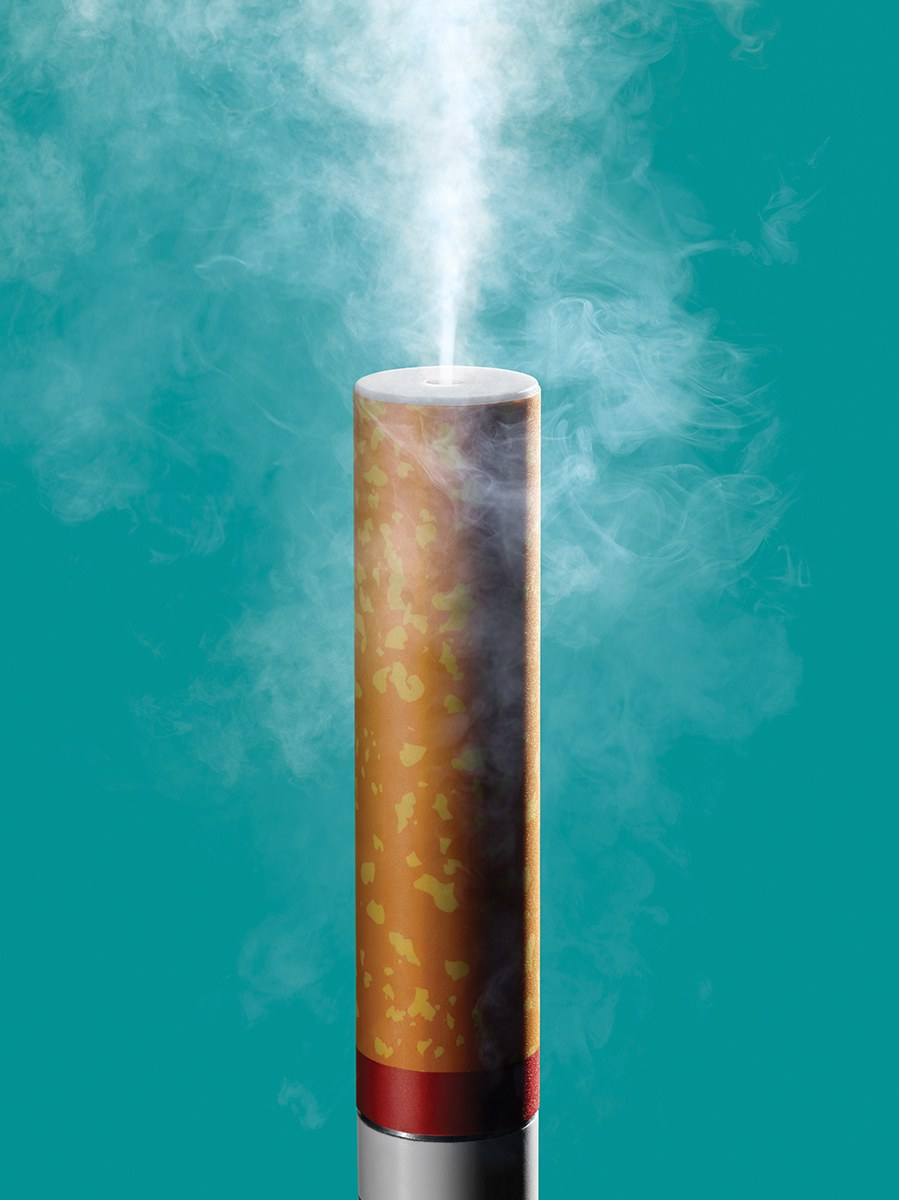cigarette: (335, 353, 564, 1200)
